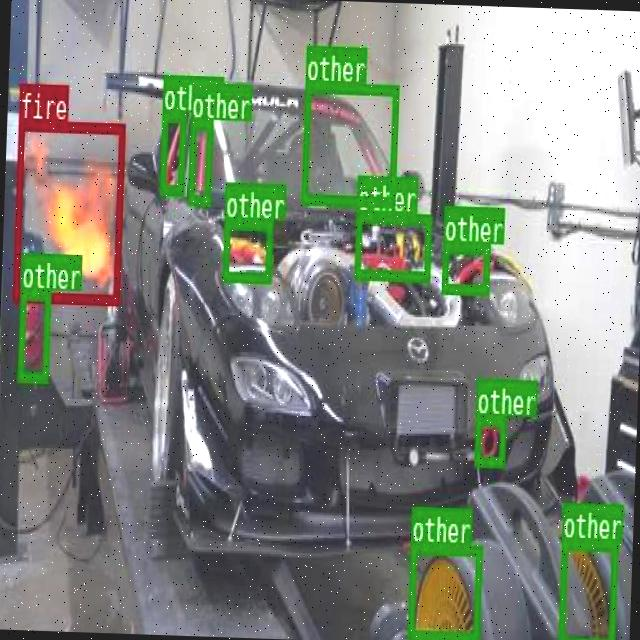fire: (11, 119, 123, 302)
